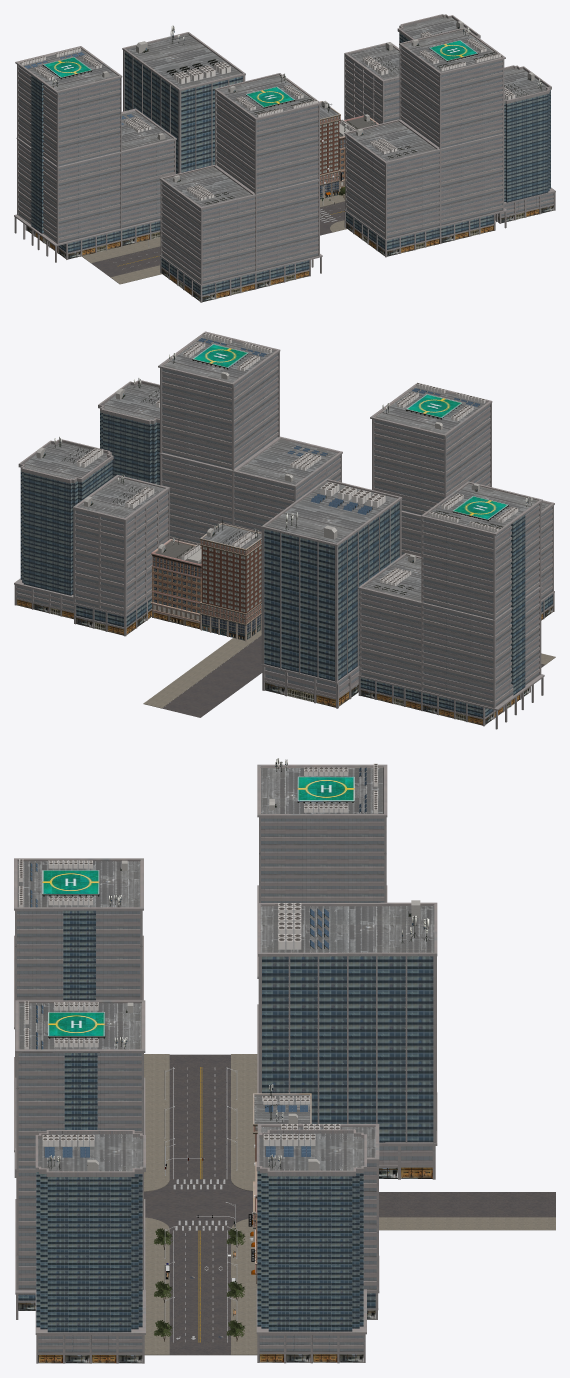
The model's file is beautiful_city.fbx.
The picture shows the model from 3 angles, top to bottom: view 1: azimuth 30°, elevation 25°; view 2: azimuth 150°, elevation 25°; view 3: azimuth 270°, elevation 25°; orthographic projection. The views are drawn at different scales.
Parts seen in each view (by area): view 1: node_df9a7036_c087_407f_9b0e_da1da15cdb42_mesh0, node_9f82cda9_d89a_497b_ab9b_4a26a3093dfb_mesh0, node_bc2e3ef2_c98b_4e86_8849_2e30a6c4ed10_mesh0, node_09c77e41_d524_495a_9f46_379b800fb616_mesh0, node_cbd4c1a3_bcd9_45db_927e_5d469093c573_mesh0, node_60e8a84e_0f2c_49ad_bc6f_3f3c809f5a4e_mesh0, node_db2dc2c4_b73a_4c0f_9986_abd7b2d4fdf6_mesh0, node_d35a29d4_926b_4105_8ccd_fab1b88a5603_mesh0, node_34b49410_1e40_442d_8641_ca62bbc92ba8_mesh0, node_94f8751a_71ba_4397_aaf4_42e95d43e2d7_mesh0, node_431a2236_4669_4e3a_b41e_298e1410feef_mesh0, node_b195e6db_a233_433a_a5a4_94624800306c_mesh0 (+4 smaller); view 2: node_bc2e3ef2_c98b_4e86_8849_2e30a6c4ed10_mesh0, node_df9a7036_c087_407f_9b0e_da1da15cdb42_mesh0, node_09c77e41_d524_495a_9f46_379b800fb616_mesh0, node_9f82cda9_d89a_497b_ab9b_4a26a3093dfb_mesh0, node_60e8a84e_0f2c_49ad_bc6f_3f3c809f5a4e_mesh0, node_b195e6db_a233_433a_a5a4_94624800306c_mesh0, node_db2dc2c4_b73a_4c0f_9986_abd7b2d4fdf6_mesh0, node_cbd4c1a3_bcd9_45db_927e_5d469093c573_mesh0, node_ee594cc0_ea03_4776_8ca3_d25bbfcc052b_mesh0, node_a6782073_c61d_4837_b9bc_eaecc3679627_mesh0, node_34b49410_1e40_442d_8641_ca62bbc92ba8_mesh0, node_d35a29d4_926b_4105_8ccd_fab1b88a5603_mesh0 (+5 smaller); view 3: node_09c77e41_d524_495a_9f46_379b800fb616_mesh0, node_b195e6db_a233_433a_a5a4_94624800306c_mesh0, node_cbd4c1a3_bcd9_45db_927e_5d469093c573_mesh0, node_df9a7036_c087_407f_9b0e_da1da15cdb42_mesh0, node_9f82cda9_d89a_497b_ab9b_4a26a3093dfb_mesh0, node_bc2e3ef2_c98b_4e86_8849_2e30a6c4ed10_mesh0, node_431a2236_4669_4e3a_b41e_298e1410feef_mesh0, node_bd579948_f6f1_4a64_bcc4_f95c91a2f570_mesh0, node_a6782073_c61d_4837_b9bc_eaecc3679627_mesh0, node_20f85ea6_1ca2_483f_995c_f95a2bf0b325_mesh0, node_60e8a84e_0f2c_49ad_bc6f_3f3c809f5a4e_mesh0, node_49734d53_8c77_418d_9696_691702ccdd79_mesh0 (+14 smaller).
Boxes of the visible parts, left/top/right/bottom form: node_df9a7036_c087_407f_9b0e_da1da15cdb42_mesh0: left=344, top=27, right=507, bottom=257; node_9f82cda9_d89a_497b_ab9b_4a26a3093dfb_mesh0: left=159, top=73, right=322, bottom=302; node_bc2e3ef2_c98b_4e86_8849_2e30a6c4ed10_mesh0: left=14, top=46, right=176, bottom=262; node_09c77e41_d524_495a_9f46_379b800fb616_mesh0: left=122, top=32, right=245, bottom=173; node_cbd4c1a3_bcd9_45db_927e_5d469093c573_mesh0: left=495, top=65, right=555, bottom=223; node_60e8a84e_0f2c_49ad_bc6f_3f3c809f5a4e_mesh0: left=344, top=42, right=399, bottom=123; node_db2dc2c4_b73a_4c0f_9986_abd7b2d4fdf6_mesh0: left=320, top=101, right=340, bottom=199; node_d35a29d4_926b_4105_8ccd_fab1b88a5603_mesh0: left=20, top=47, right=165, bottom=139; node_34b49410_1e40_442d_8641_ca62bbc92ba8_mesh0: left=356, top=27, right=500, bottom=158; node_94f8751a_71ba_4397_aaf4_42e95d43e2d7_mesh0: left=173, top=73, right=317, bottom=204; node_431a2236_4669_4e3a_b41e_298e1410feef_mesh0: left=91, top=246, right=160, bottom=277; node_b195e6db_a233_433a_a5a4_94624800306c_mesh0: left=397, top=14, right=480, bottom=48; node_bc2e3ef2_c98b_4e86_8849_2e30a6c4ed10_mesh0: left=358, top=481, right=544, bottom=729; node_df9a7036_c087_407f_9b0e_da1da15cdb42_mesh0: left=158, top=331, right=342, bottom=546; node_09c77e41_d524_495a_9f46_379b800fb616_mesh0: left=261, top=478, right=402, bottom=708; node_9f82cda9_d89a_497b_ab9b_4a26a3093dfb_mesh0: left=370, top=382, right=554, bottom=620; node_60e8a84e_0f2c_49ad_bc6f_3f3c809f5a4e_mesh0: left=73, top=475, right=169, bottom=636; node_b195e6db_a233_433a_a5a4_94624800306c_mesh0: left=14, top=439, right=113, bottom=619; node_db2dc2c4_b73a_4c0f_9986_abd7b2d4fdf6_mesh0: left=199, top=523, right=261, bottom=641; node_cbd4c1a3_bcd9_45db_927e_5d469093c573_mesh0: left=98, top=380, right=159, bottom=484; node_ee594cc0_ea03_4776_8ca3_d25bbfcc052b_mesh0: left=150, top=539, right=201, bottom=629; node_a6782073_c61d_4837_b9bc_eaecc3679627_mesh0: left=162, top=636, right=262, bottom=717; node_34b49410_1e40_442d_8641_ca62bbc92ba8_mesh0: left=169, top=332, right=327, bottom=481; node_d35a29d4_926b_4105_8ccd_fab1b88a5603_mesh0: left=374, top=483, right=532, bottom=594; node_09c77e41_d524_495a_9f46_379b800fb616_mesh0: left=258, top=902, right=437, bottom=1179; node_b195e6db_a233_433a_a5a4_94624800306c_mesh0: left=256, top=1129, right=366, bottom=1363; node_cbd4c1a3_bcd9_45db_927e_5d469093c573_mesh0: left=35, top=1130, right=145, bottom=1363; node_df9a7036_c087_407f_9b0e_da1da15cdb42_mesh0: left=15, top=1000, right=145, bottom=1319; node_9f82cda9_d89a_497b_ab9b_4a26a3093dfb_mesh0: left=14, top=858, right=143, bottom=1177; node_bc2e3ef2_c98b_4e86_8849_2e30a6c4ed10_mesh0: left=257, top=764, right=387, bottom=1093; node_431a2236_4669_4e3a_b41e_298e1410feef_mesh0: left=169, top=1054, right=230, bottom=1179; node_bd579948_f6f1_4a64_bcc4_f95c91a2f570_mesh0: left=169, top=1230, right=230, bottom=1355; node_a6782073_c61d_4837_b9bc_eaecc3679627_mesh0: left=379, top=1192, right=555, bottom=1217; node_20f85ea6_1ca2_483f_995c_f95a2bf0b325_mesh0: left=144, top=1179, right=252, bottom=1230; node_60e8a84e_0f2c_49ad_bc6f_3f3c809f5a4e_mesh0: left=257, top=1124, right=379, bottom=1319; node_49734d53_8c77_418d_9696_691702ccdd79_mesh0: left=144, top=1054, right=169, bottom=1178.
Bounding box in the file's own units: 1710 × 673 × 1186.
Materials: 22 (14 with a texture image).
